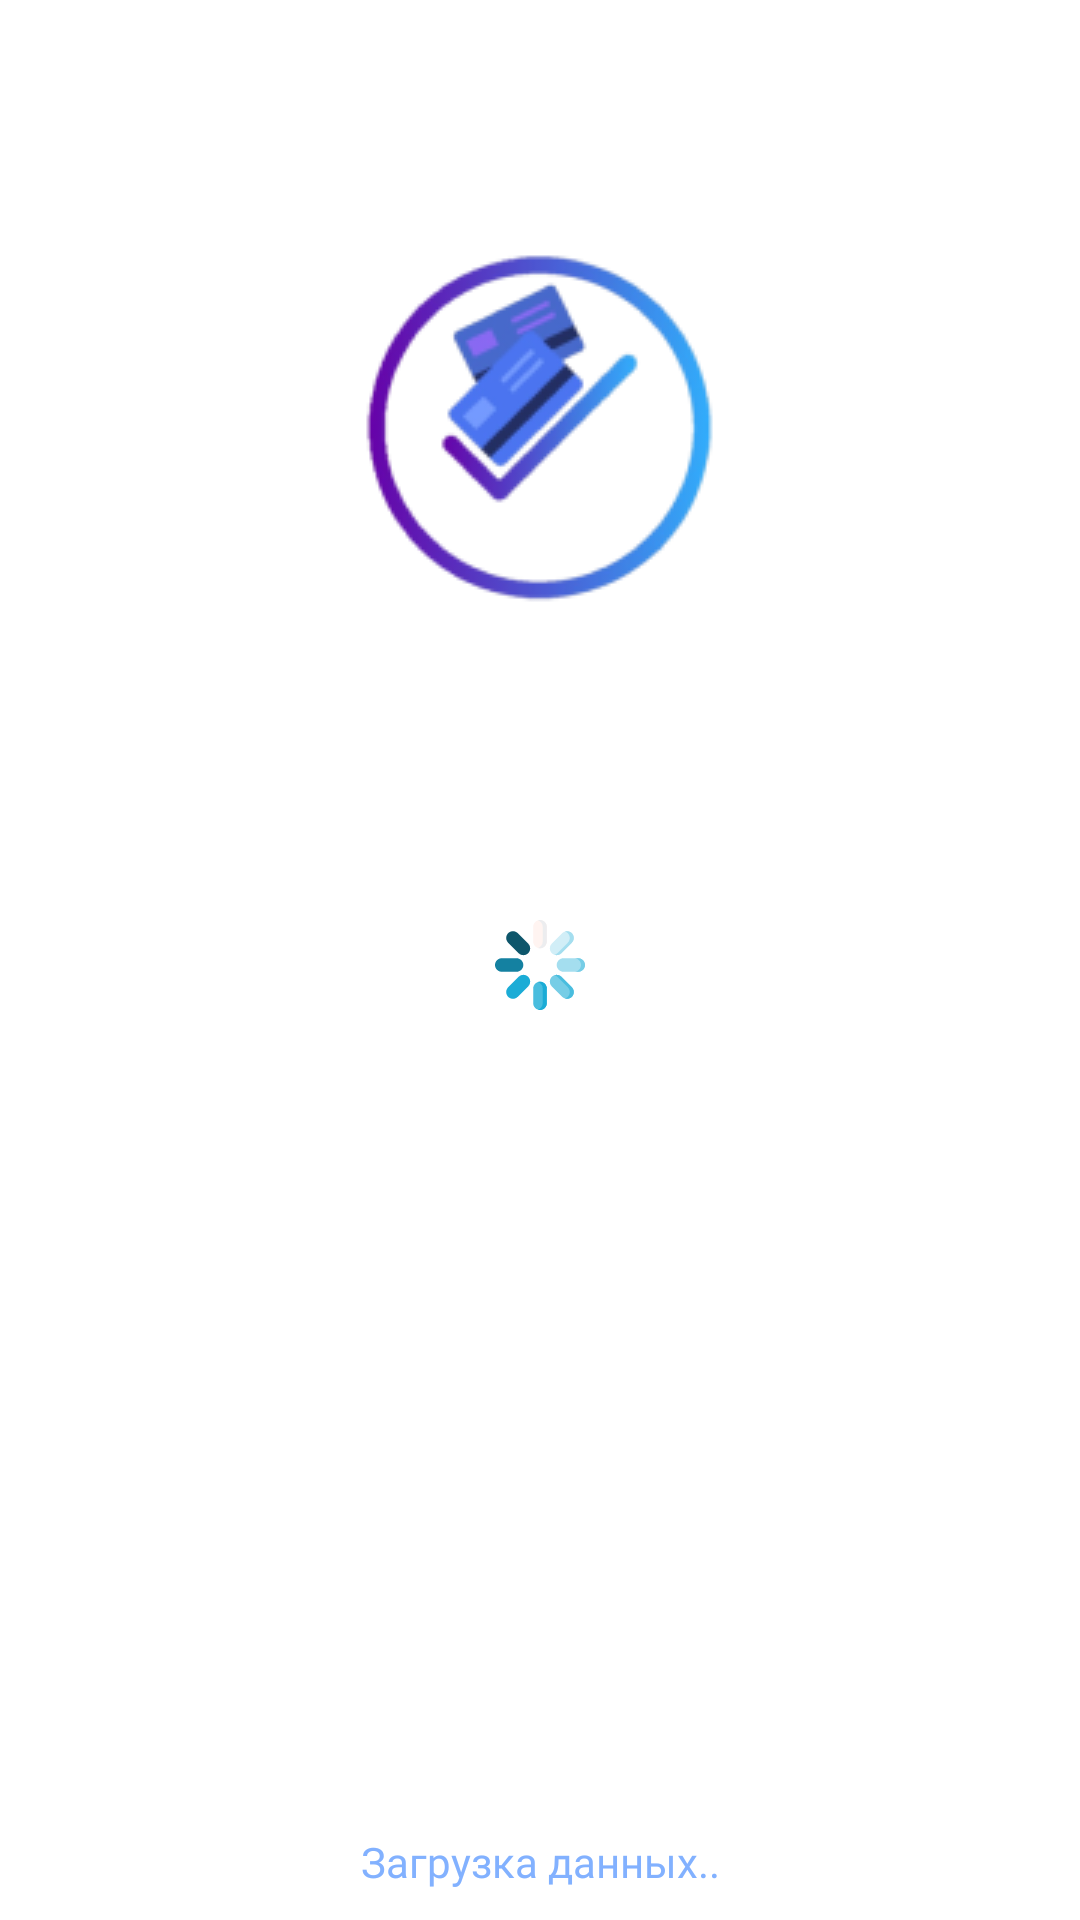

Icons on this 1080*1920 Android screen, each with its box as (x1, y1, x2, y2):
loading start app: (495, 931, 585, 1010)
